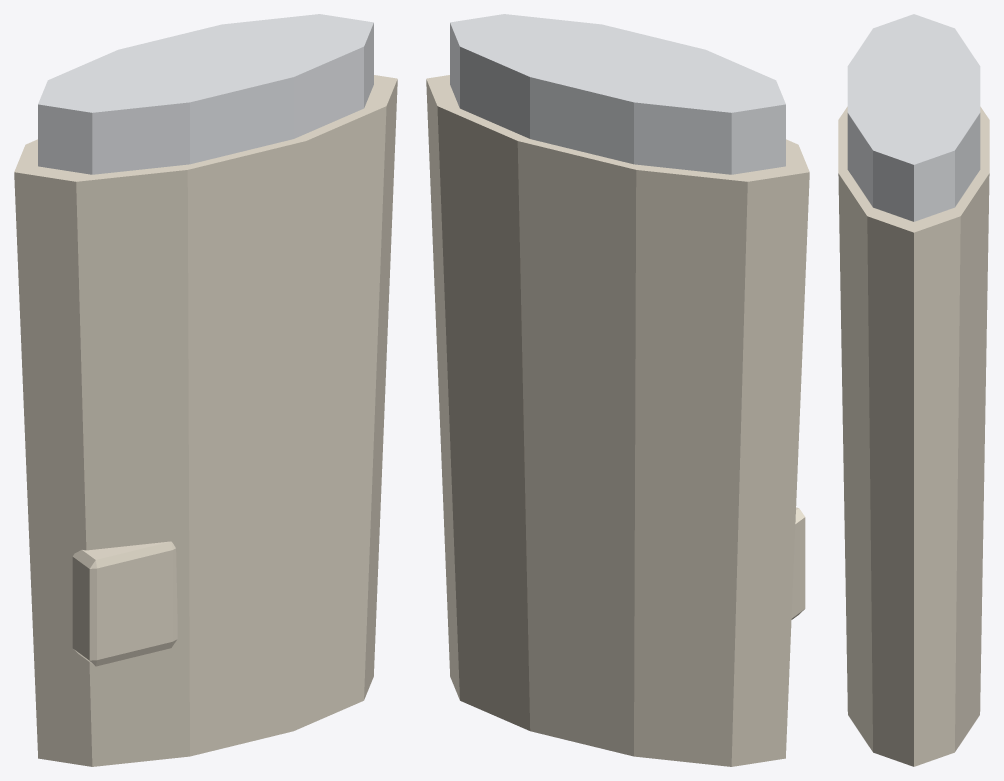
Rendered from b17_canvas_shopping_tote.glb.
3 renders of one model, left to right at view 1: azimuth 30°, elevation 25°; view 2: azimuth 150°, elevation 25°; view 3: azimuth 270°, elevation 25°, orthographic. The views are drawn at different scales.
Parts seen in each view (by area): view 1: b17_canvas_shopping_tote; view 2: b17_canvas_shopping_tote; view 3: b17_canvas_shopping_tote.
Part boxes in pixels (bbox=[...]): b17_canvas_shopping_tote: bbox=[14, 14, 397, 766]; b17_canvas_shopping_tote: bbox=[426, 14, 809, 766]; b17_canvas_shopping_tote: bbox=[838, 14, 989, 766].
Size of the model in its own units: 0.34 by 0.554 by 0.126.
